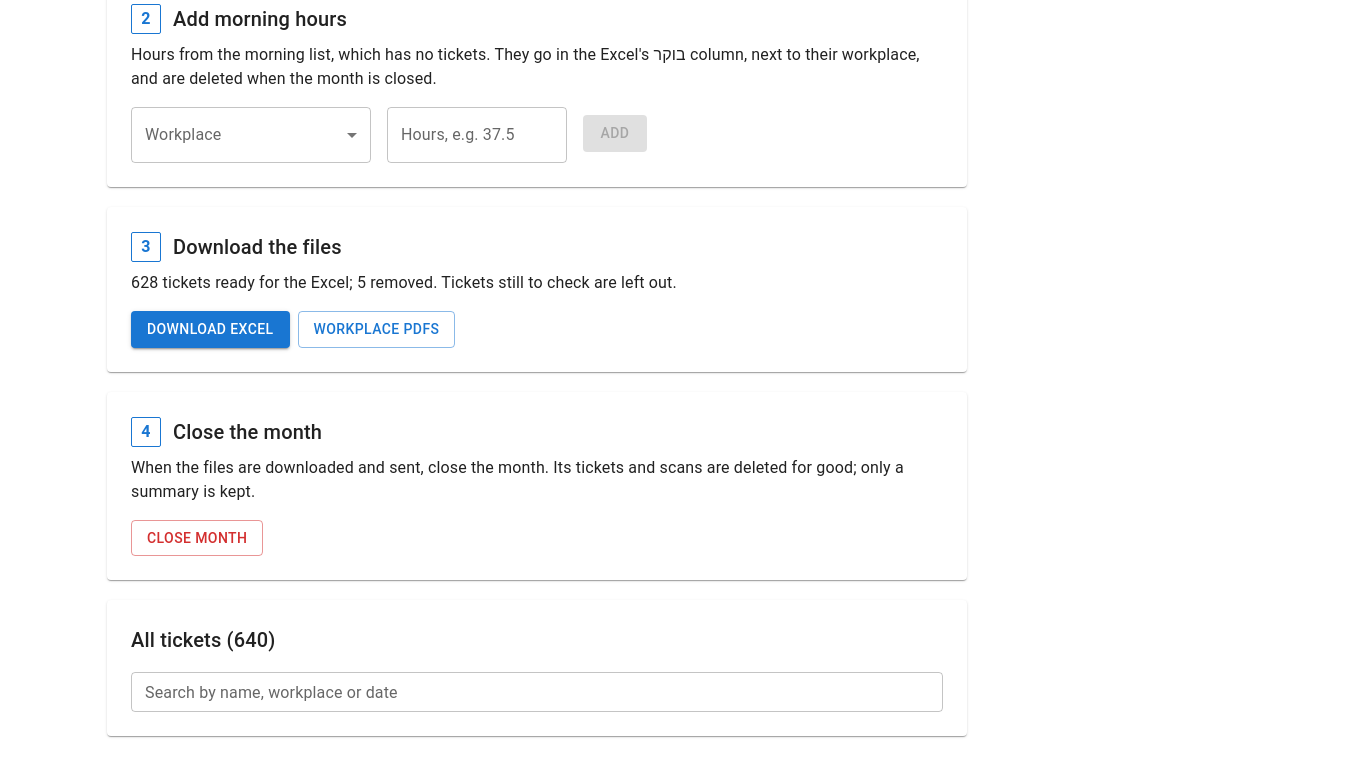
Test: closing a month › downloads the final Excel and PDFs first, ticked by default (Q15)
Later steps or results of the test are not shown.
(page scrolled)
Click the button "Close month". click: click(197, 538)
box: [131, 520, 263, 556]
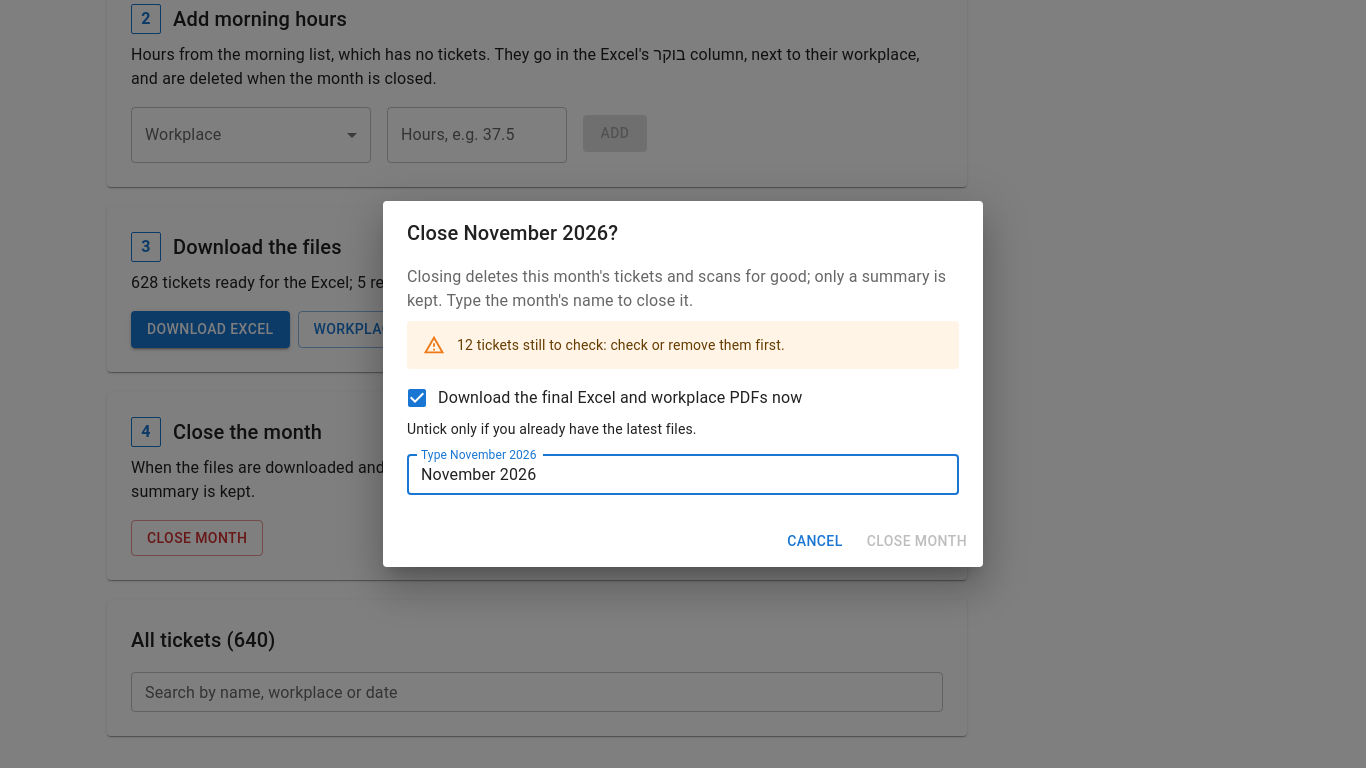
Check: the checkbox labelled "Download the final Excel and workplace PDFs now" is checked, box [405, 386, 802, 410]
